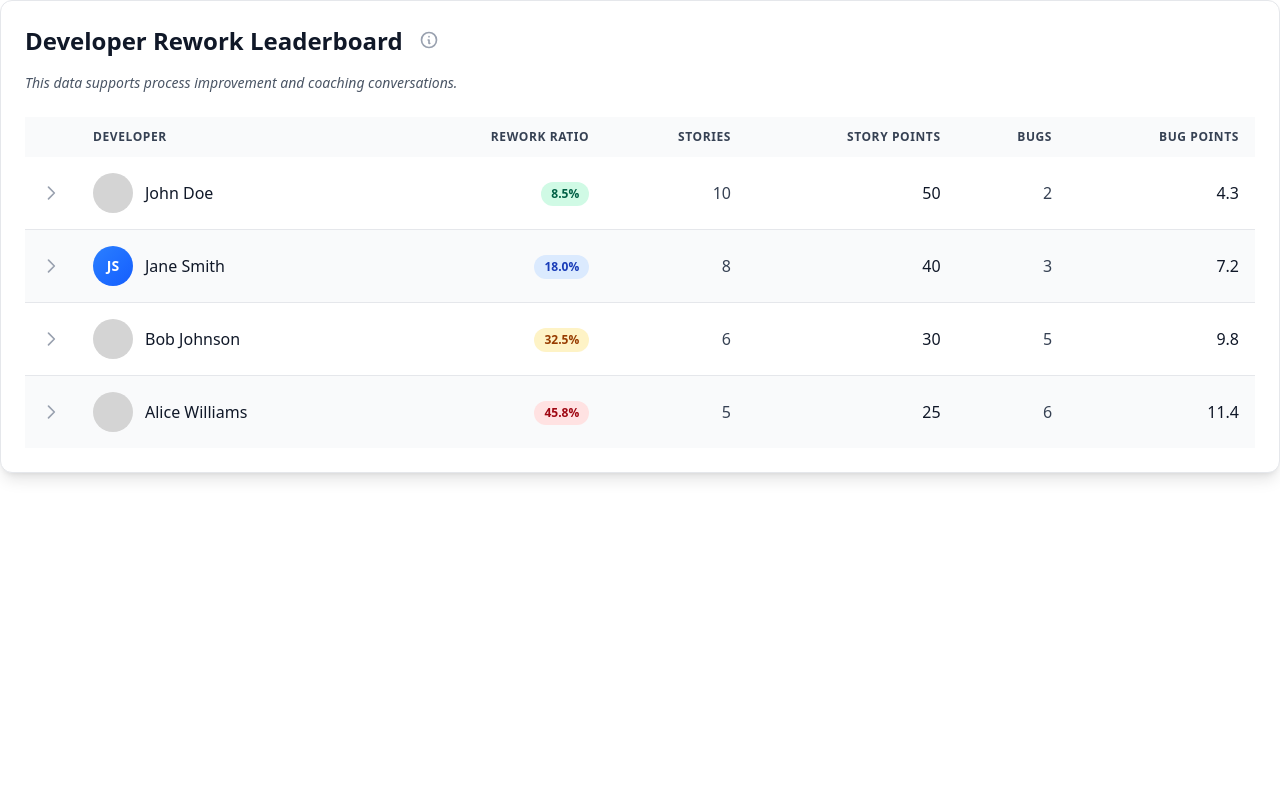
Test: DeveloperLeaderboardTable › expandable rows toggle on click
This screenshot has width=1280, height=800.
Expected: the text "John Doe" is shown, [145,181,213,205]
Expected: the text "Implement user authentication" is not shown
# Click to expand
Step 1. Click the button "John Doe 8.5% 10 50 2 4.3" → point(113, 193), box [25,157,1255,230]
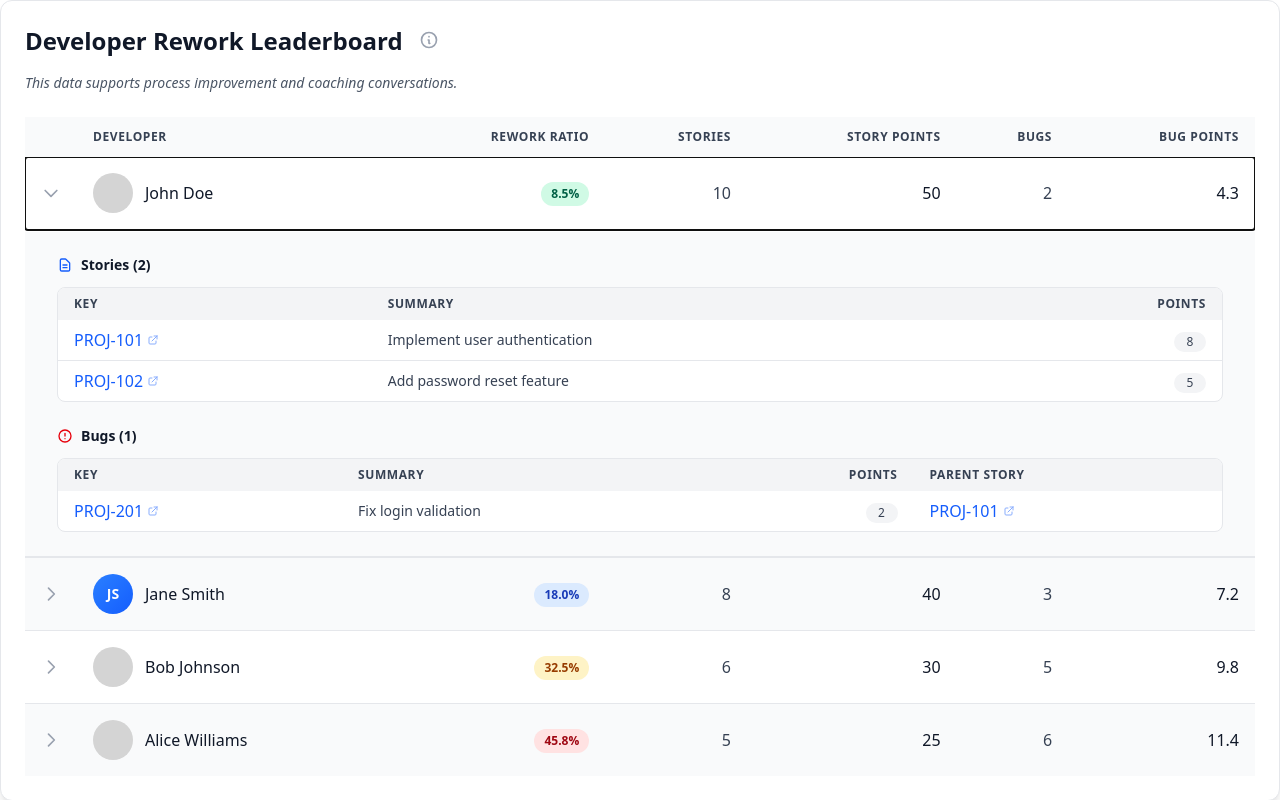
Now the text "Implement user authentication" is shown, box [372,320,1006,360]
Now the text "Add password reset feature" is shown, box [372,360,1006,401]
Now the text "Fix login validation" is shown, box [342,491,718,531]
# Click again to collapse
Step 2. Click the button "John Doe 8.5% 10 50 2 4.3" → point(113, 193), box [25,157,1255,230]
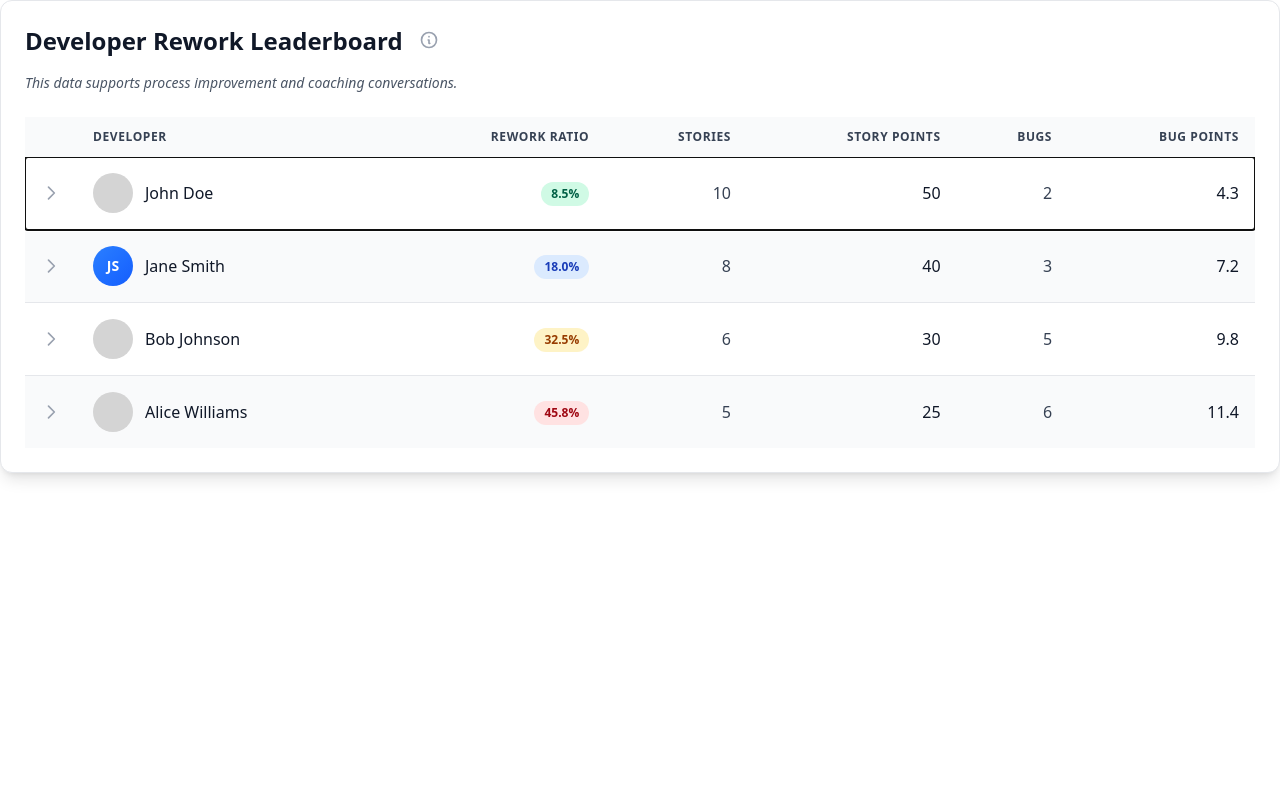
Now the text "Implement user authentication" is gone
Now the text "Add password reset feature" is gone
Now the button "John Doe 8.5% 10 50 2 4.3" is collapsed, box [25,157,1255,230]
